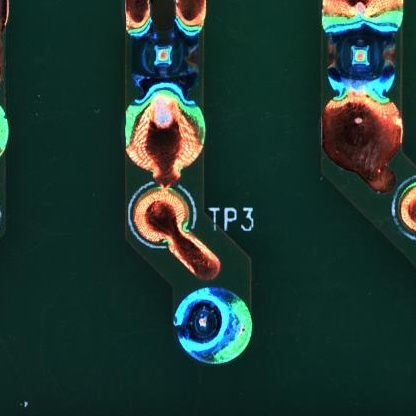spot: (173, 284, 252, 366), (322, 25, 399, 90), (128, 29, 201, 88)
